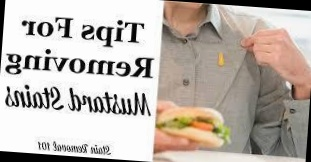mustard: (213, 49, 227, 69)
